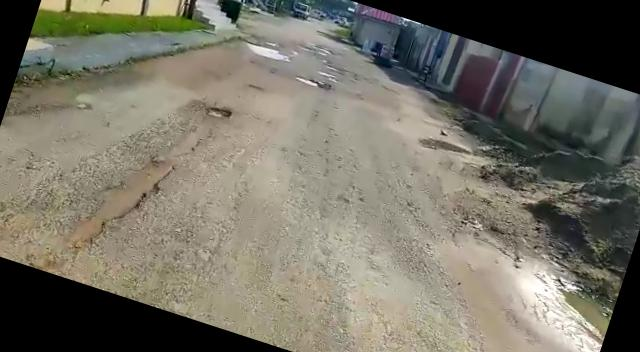pothole: (243, 40, 292, 66), (203, 100, 240, 126), (293, 72, 327, 90)
